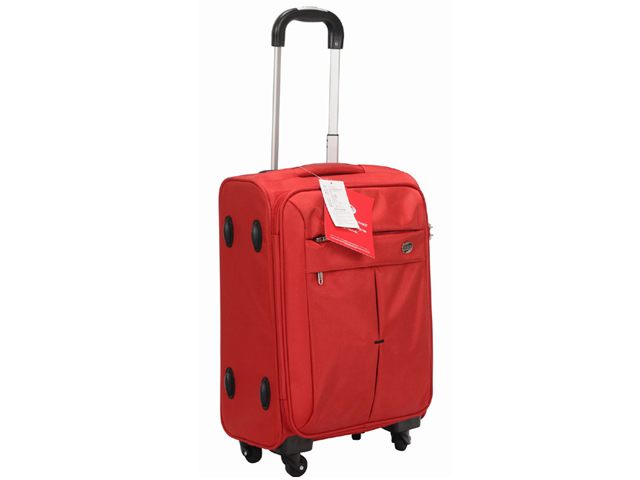luggage: (219, 6, 435, 476)
